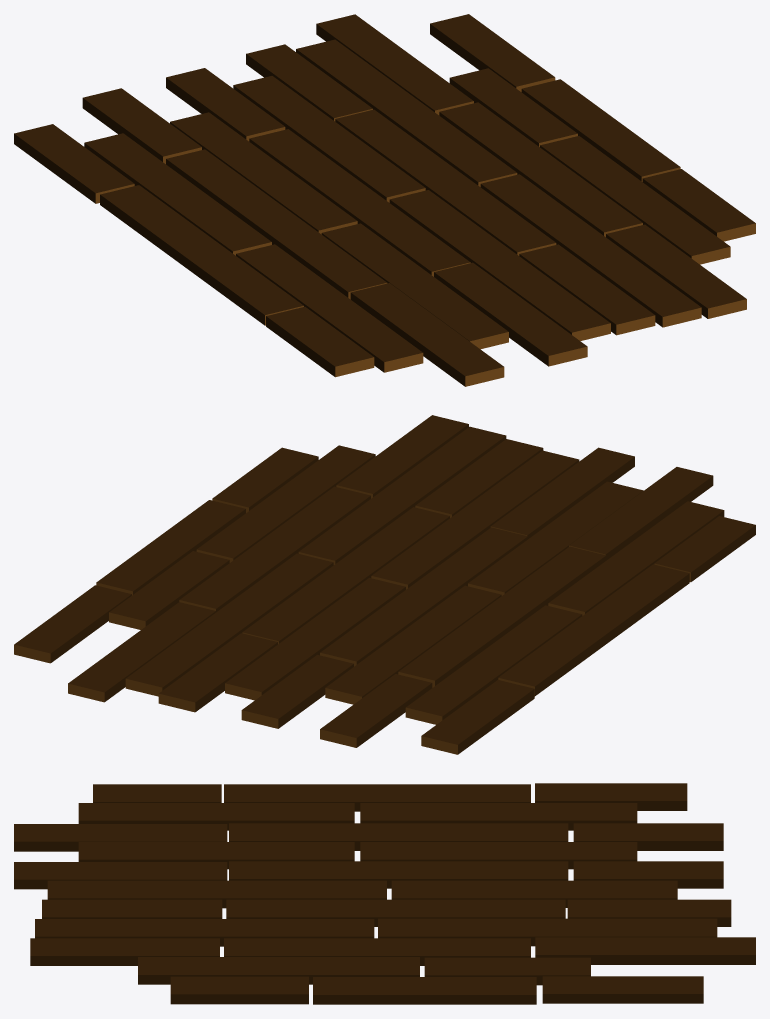
The model's file is FBX_PLANCHER.fbx.
The picture shows the model from 3 angles, top to bottom: view 1: azimuth 30°, elevation 25°; view 2: azimuth 150°, elevation 25°; view 3: azimuth 270°, elevation 25°; orthographic projection. The views are drawn at different scales.
Visible parts, largest first — view 1: PLANCHE5; view 2: PLANCHE5; view 3: PLANCHE5.
Boxes of the visible parts, x1=… form: PLANCHE5: x1=14, y1=14, x2=755, y2=386; PLANCHE5: x1=14, y1=415, x2=755, y2=754; PLANCHE5: x1=14, y1=783, x2=755, y2=1004.
Bounding box in the file's own units: 182 × 3.96 × 270.
